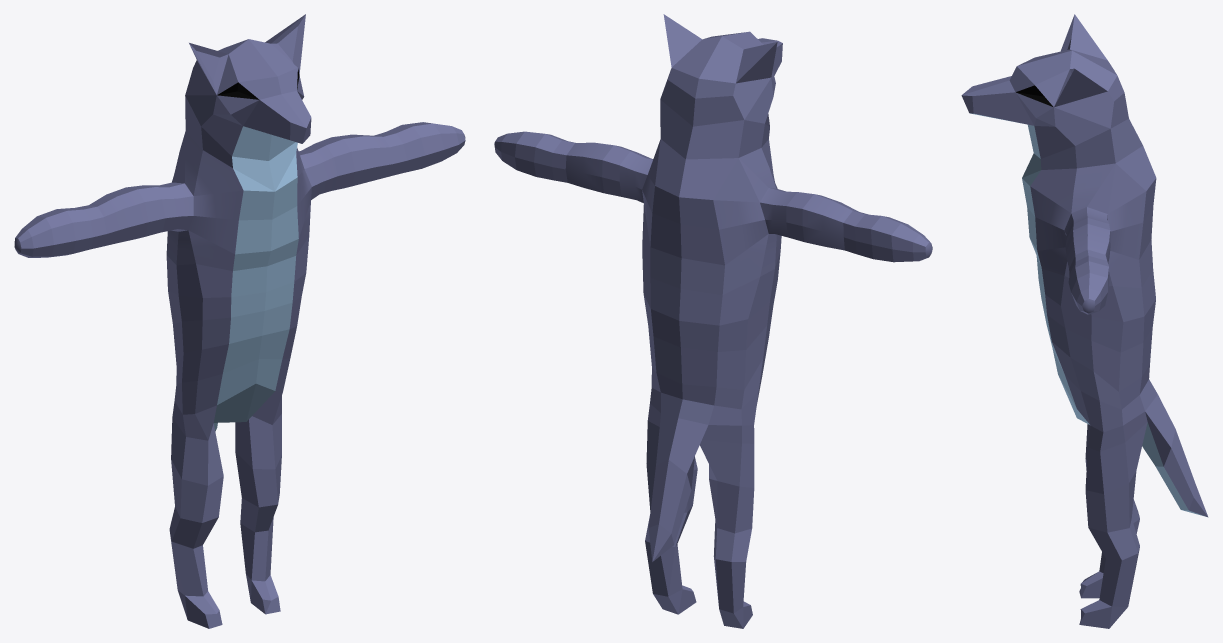
File: Coyote.fbx
The picture shows the model from 3 angles, left to right: view 1: azimuth 30°, elevation 25°; view 2: azimuth 150°, elevation 25°; view 3: azimuth 270°, elevation 25°; orthographic projection. The views are drawn at different scales.
Parts seen in each view (by area): view 1: Coyote; view 2: Coyote; view 3: Coyote.
Boxes of the visible parts, x1,y1,x2,y2 form: Coyote: [14, 14, 465, 628]; Coyote: [494, 14, 932, 628]; Coyote: [961, 14, 1208, 628].
Size of the model in its own units: 5.21 by 6.57 by 2.59.
